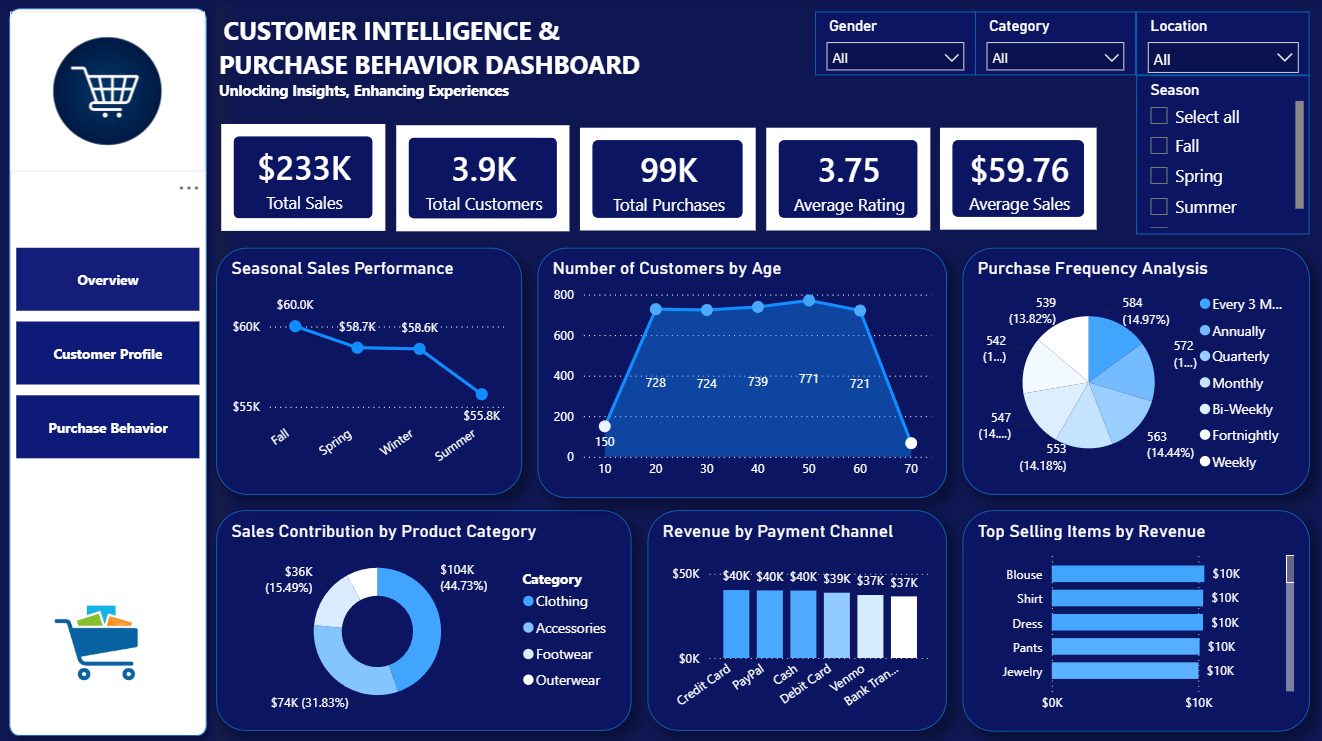

What the dashboard file says about the page in this screenshot:
{"tool":"powerbi","page":{"name":"Overview","canvas":[1280,720],"ordinal":0},"visuals":[{"type":"shape","box":[0,0,208.6,720.4],"z":0},{"type":"pieChart","title":"Sales Contribution by Product Category","fields":{"Category":["shopping_behavior_updated (1).Category"],"Y":["Sum(shopping_behavior_updated (1).Purchase Amount (USD))"]},"box":[208.6,494,400.7,212.7],"z":1000},{"type":"barChart","title":"Top Selling Items by Revenue","fields":{"Category":["shopping_behavior_updated (1).Item Purchased"],"Y":["Sum(shopping_behavior_updated (1).Purchase Amount (USD))"]},"box":[929.1,493.1,335.1,213.6],"z":2000},{"type":"stackedAreaChart","title":"Number of Customers by Age ","fields":{"Category":["shopping_behavior_updated (1).Age (bins)"],"Y":["Count(shopping_behavior_updated (1).Customer ID)"]},"box":[518.7,240.1,395.2,241.5],"z":3000},{"type":"pieChart","title":"Purchase Frequency Analysis","fields":{"Category":["shopping_behavior_updated (1).Frequency of Purchases"],"Y":["CountNonNull(shopping_behavior_updated (1).Customer ID)"]},"box":[929.1,240,335.1,238.5],"z":4000},{"type":"columnChart","title":"Revenue by Payment Channel","fields":{"Category":["shopping_behavior_updated (1).Payment Method"],"Y":["Sum(shopping_behavior_updated (1).Purchase Amount (USD))"]},"box":[625.5,493.7,288.6,212.4],"z":5000},{"type":"lineChart","title":"Seasonal Sales Performance","fields":{"Category":["shopping_behavior_updated (1).Season"],"Y":["Sum(shopping_behavior_updated (1).Purchase Amount (USD))"]},"box":[208.6,240.1,295,238.8],"z":6000},{"type":"textbox","box":[206.5,10.3,455.6,86.4],"z":7000},{"type":"image","box":[9.6,12.3,188,153.7],"z":8000},{"type":"image","box":[0,524.2,185.2,196.2],"z":9000},{"type":"textbox","box":[206.5,73.2,300.3,46.9],"z":10000},{"type":"cardVisual","title":"Total Sales","fields":{"Data":["Sum(shopping_behavior_updated (1).Purchase Amount (USD))"]},"box":[208.6,115.3,168.8,113.9],"z":11000},{"type":"cardVisual","title":"Total Sales","fields":{"Data":["CountNonNull(shopping_behavior_updated (1).Customer ID)"]},"box":[377.4,116.6,177,112.5],"z":12000},{"type":"cardVisual","title":"Total Sales","fields":{"Data":["Sum(shopping_behavior_updated (1).Previous Purchases)"]},"box":[554.4,119.4,179.8,109.8],"z":13000},{"type":"cardVisual","title":"Total Sales","fields":{"Data":["Avg(shopping_behavior_updated (1).Purchase Amount (USD))"]},"box":[902.9,119.4,161.9,108.4],"z":14000},{"type":"cardVisual","title":"Total Sales","fields":{"Data":["Avg(shopping_behavior_updated (1).Review Rating)"]},"box":[734.1,119.4,168.8,109.8],"z":15000},{"type":"actionButton","box":[1180.1,34.3,100.2,39.8],"z":16000},{"type":"slicer","fields":{"Values":["shopping_behavior_updated (1).Gender"]},"box":[786.3,12.3,155.1,61.7],"z":17000},{"type":"slicer","fields":{"Values":["shopping_behavior_updated (1).Category"]},"box":[941.3,12.3,155.1,61.7],"z":18000},{"type":"slicer","fields":{"Values":["shopping_behavior_updated (1).Location"]},"box":[1096.4,12.3,167.4,61.7],"z":19000},{"type":"slicer","fields":{"Values":["shopping_behavior_updated (1).Season"]},"box":[1096.4,74.1,167.4,153.7],"z":20000},{"type":"pageNavigator","box":[15.1,240.1,177,205.8],"z":21000}]}

Visuals, with their boxes in screenshot pixels (x1, y1, x2, y2), scaled from the page's 1280x720 canvas onto the 1322x741 screenshot:
shape: {"left": 0, "top": 0, "right": 215, "bottom": 740}
"Sales Contribution by Product Category" pieChart: {"left": 215, "top": 508, "right": 629, "bottom": 727}
"Top Selling Items by Revenue" barChart: {"left": 960, "top": 507, "right": 1306, "bottom": 727}
"Number of Customers by Age " stackedAreaChart: {"left": 536, "top": 247, "right": 944, "bottom": 496}
"Purchase Frequency Analysis" pieChart: {"left": 960, "top": 247, "right": 1306, "bottom": 492}
"Revenue by Payment Channel" columnChart: {"left": 646, "top": 508, "right": 944, "bottom": 727}
"Seasonal Sales Performance" lineChart: {"left": 215, "top": 247, "right": 520, "bottom": 493}
textbox: {"left": 213, "top": 11, "right": 684, "bottom": 100}
image: {"left": 10, "top": 13, "right": 204, "bottom": 171}
image: {"left": 0, "top": 539, "right": 191, "bottom": 740}
textbox: {"left": 213, "top": 75, "right": 523, "bottom": 124}
"Total Sales" cardVisual: {"left": 215, "top": 119, "right": 390, "bottom": 236}
"Total Sales" cardVisual: {"left": 390, "top": 120, "right": 573, "bottom": 236}
"Total Sales" cardVisual: {"left": 573, "top": 123, "right": 758, "bottom": 236}
"Total Sales" cardVisual: {"left": 933, "top": 123, "right": 1100, "bottom": 234}
"Total Sales" cardVisual: {"left": 758, "top": 123, "right": 933, "bottom": 236}
actionButton: {"left": 1219, "top": 35, "right": 1321, "bottom": 76}
slicer - shopping_behavior_updated (1).Gender: {"left": 812, "top": 13, "right": 972, "bottom": 76}
slicer - shopping_behavior_updated (1).Category: {"left": 972, "top": 13, "right": 1132, "bottom": 76}
slicer - shopping_behavior_updated (1).Location: {"left": 1132, "top": 13, "right": 1305, "bottom": 76}
slicer - shopping_behavior_updated (1).Season: {"left": 1132, "top": 76, "right": 1305, "bottom": 234}
pageNavigator: {"left": 16, "top": 247, "right": 198, "bottom": 459}
